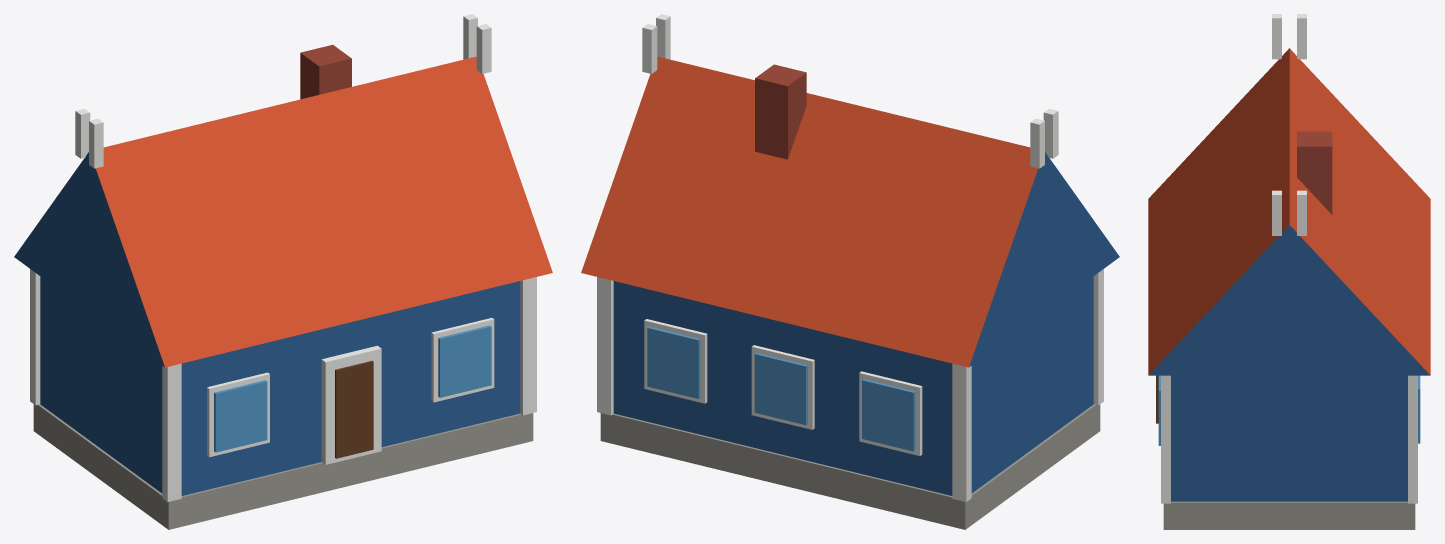
The model's file is 67_nida_wood_1.obj.
The picture shows the model from 3 angles, left to right: view 1: azimuth 30°, elevation 25°; view 2: azimuth 150°, elevation 25°; view 3: azimuth 270°, elevation 25°; orthographic projection. The views are drawn at different scales.
Parts seen in each view (by area): view 1: 67_nida_wood_1; view 2: 67_nida_wood_1; view 3: 67_nida_wood_1.
Part boxes in pixels (x1,y1,x2,y2): 67_nida_wood_1: [14, 14, 552, 529]; 67_nida_wood_1: [581, 14, 1119, 529]; 67_nida_wood_1: [1148, 14, 1430, 529].
Bounding box in the file's own units: 1.7 × 1.5 × 1.12.
